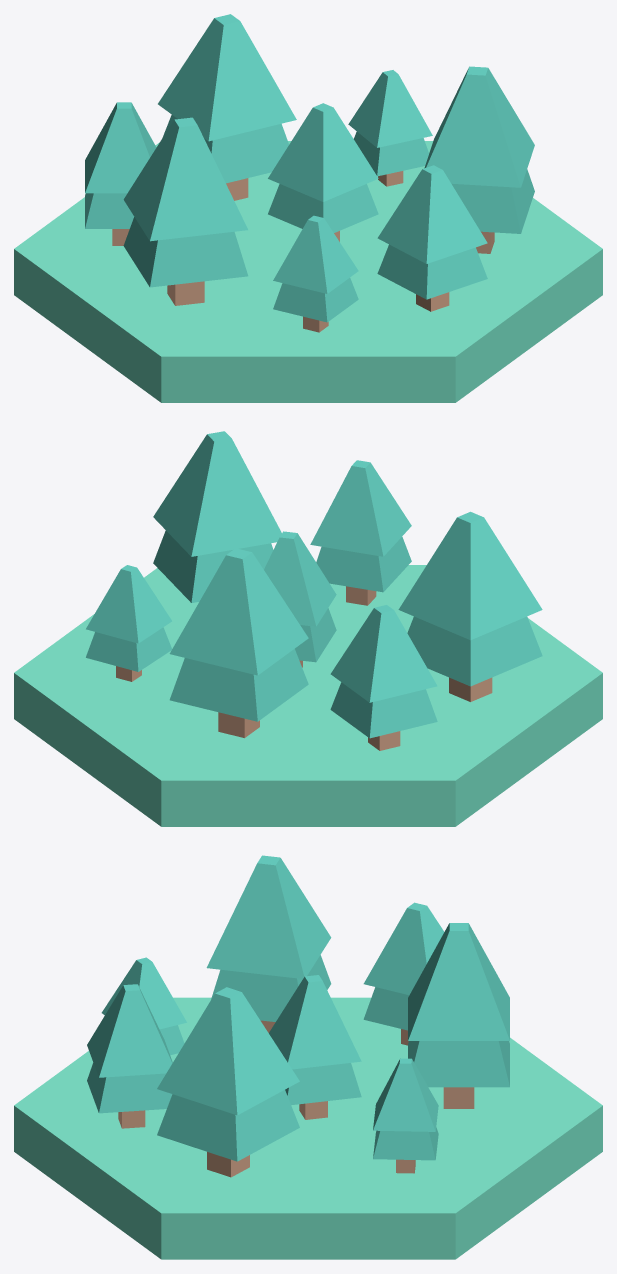
File: Forest.fbx
3 views of the same model, one above another, from view 1: azimuth 30°, elevation 25°; view 2: azimuth 150°, elevation 25°; view 3: azimuth 270°, elevation 25° (orthographic).
Visible parts, largest first — view 1: grass_forest; view 2: grass_forest; view 3: grass_forest.
Part boxes in pixels (x1,y1,x2,y2): grass_forest: (14, 14, 602, 402); grass_forest: (14, 431, 602, 826); grass_forest: (14, 855, 602, 1259).
Size of the model in its own units: 100 by 48 by 115.
